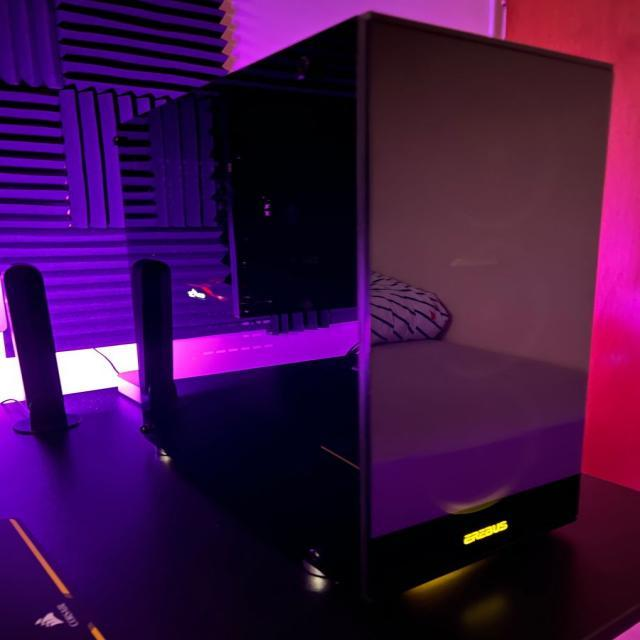Desktop-PC: (103, 9, 617, 593)
